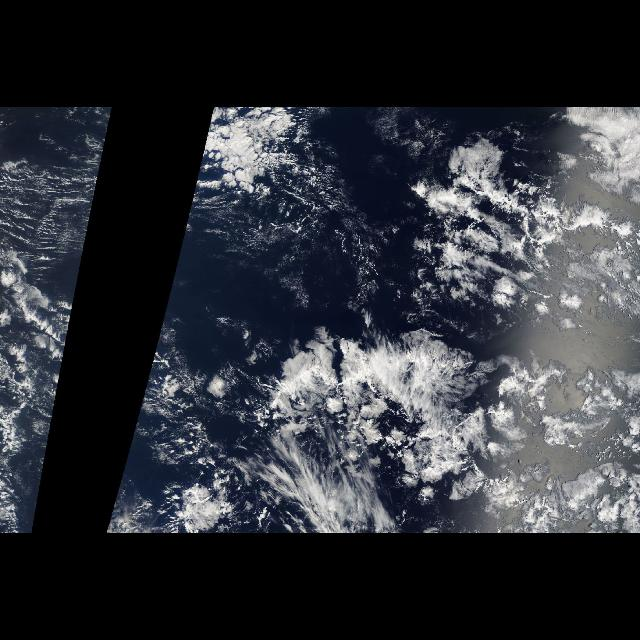Fish: (209, 117, 573, 533)
Sugar: (1, 128, 108, 264), (176, 200, 190, 262)
